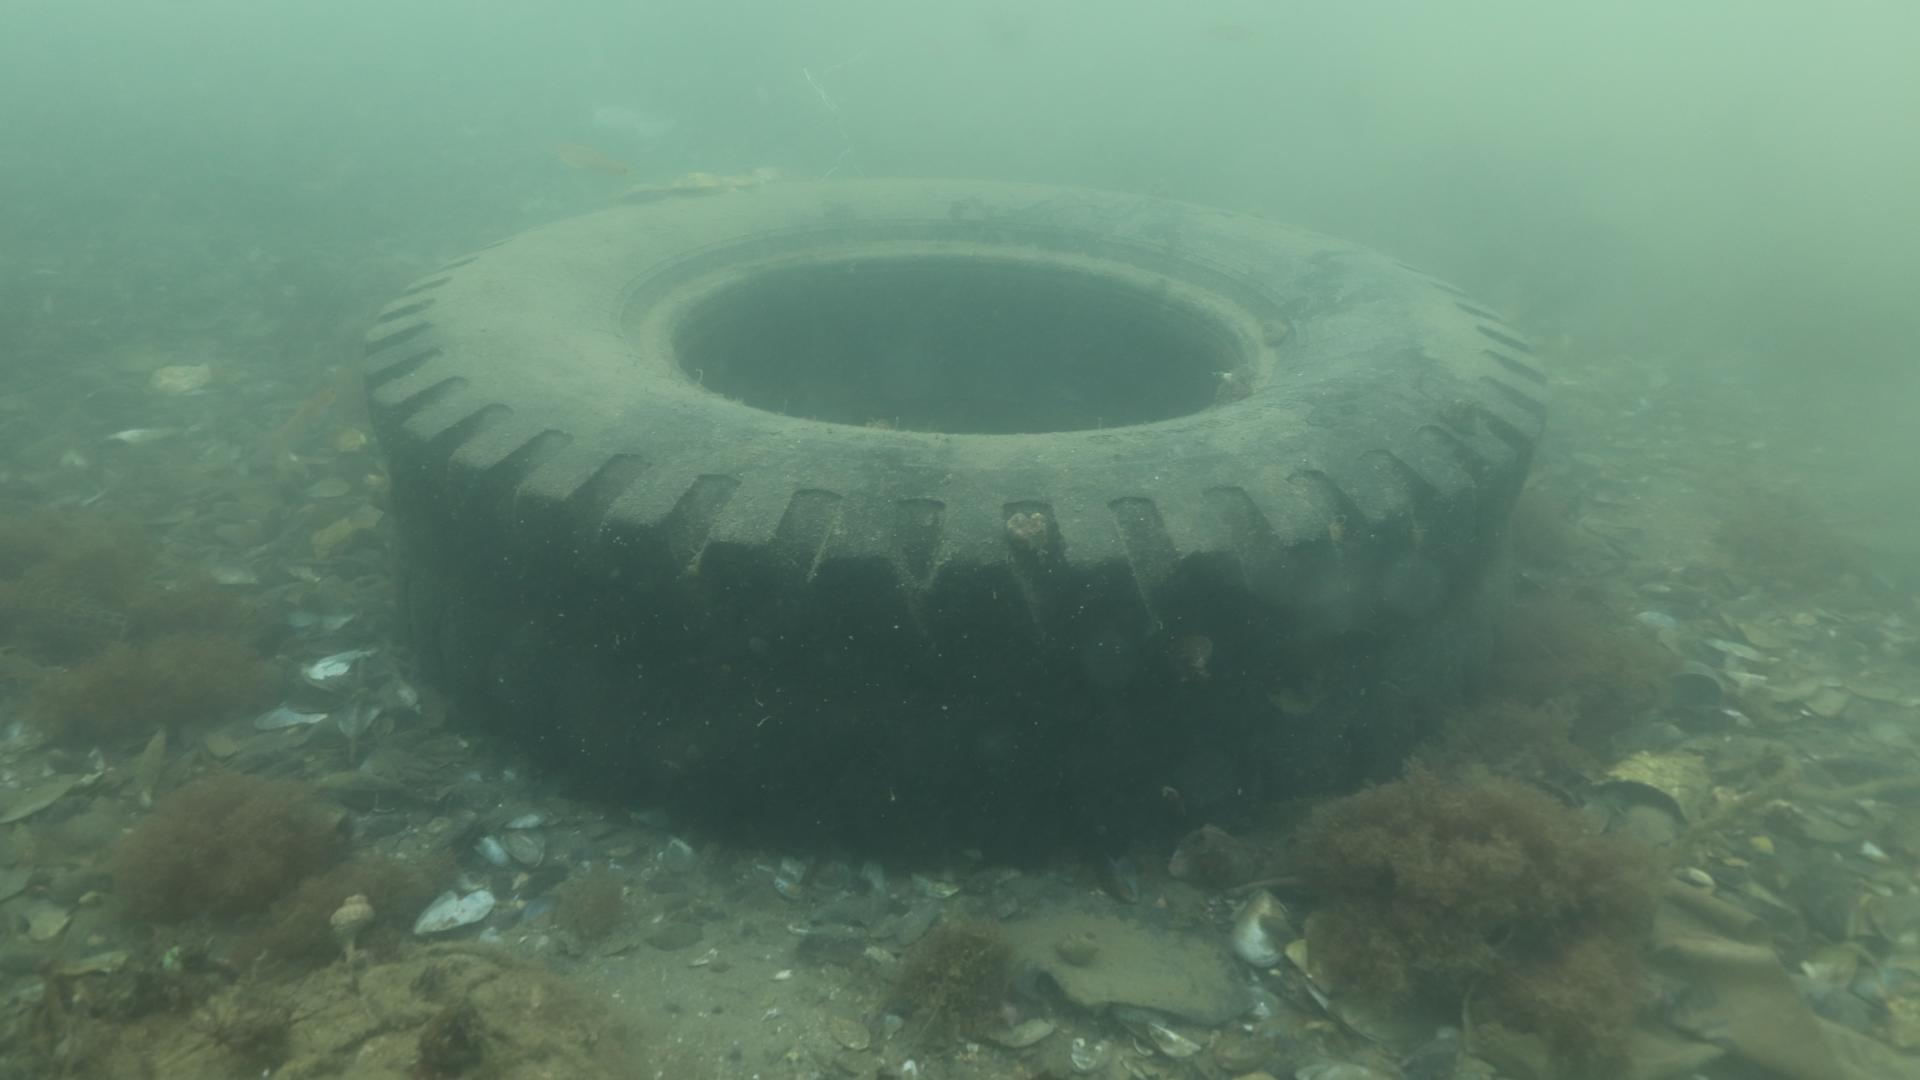tire: (361, 173, 1552, 860)
